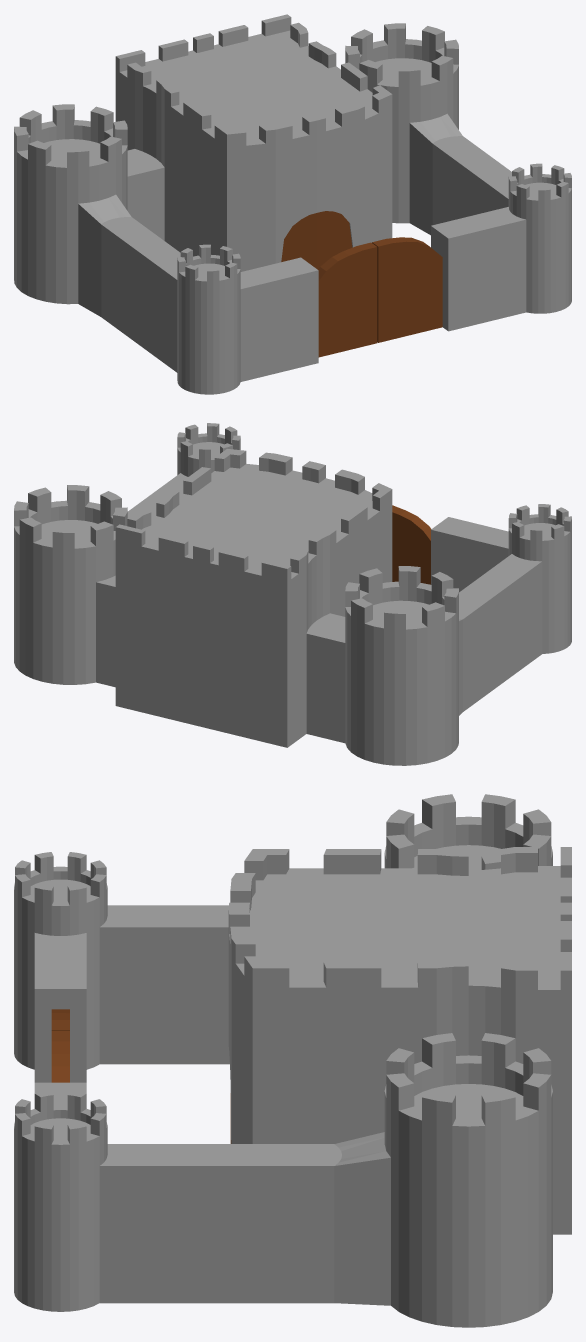
Rendered from Barracks.fbx.
3 views of the same model, one above another, from view 1: azimuth 30°, elevation 25°; view 2: azimuth 150°, elevation 25°; view 3: azimuth 270°, elevation 25° (orthographic). The views are drawn at different scales.
Parts seen in each view (by area): view 1: Cylinder, Cylinder.001; view 2: Cylinder, Cylinder.001; view 3: Cylinder, Cylinder.001.
Part boxes in pixels (x1,y1,x2,y2): Cylinder: (14,14,571,394); Cylinder.001: (281,211,442,357); Cylinder: (14,423,571,765); Cylinder.001: (392,505,431,584); Cylinder: (14,794,571,1327); Cylinder.001: (51,1009,231,1143).
Size of the model in its own units: 15.68 by 11.93 by 6.23.
